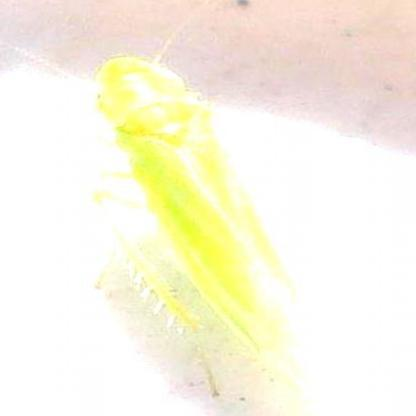green-leafhopper: (92, 53, 304, 366)
